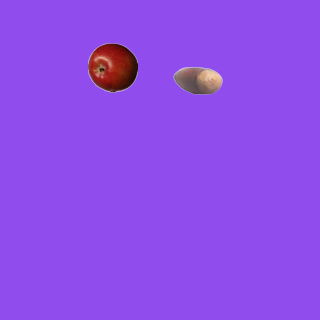Apple Braeburn: (87, 42, 137, 92)
Hazelnut: (172, 55, 222, 105)
